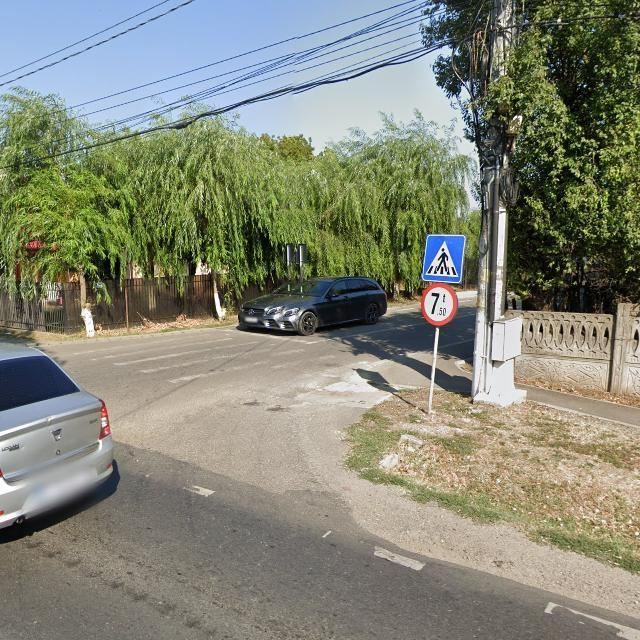info_crosswalk: (421, 233, 466, 283)
